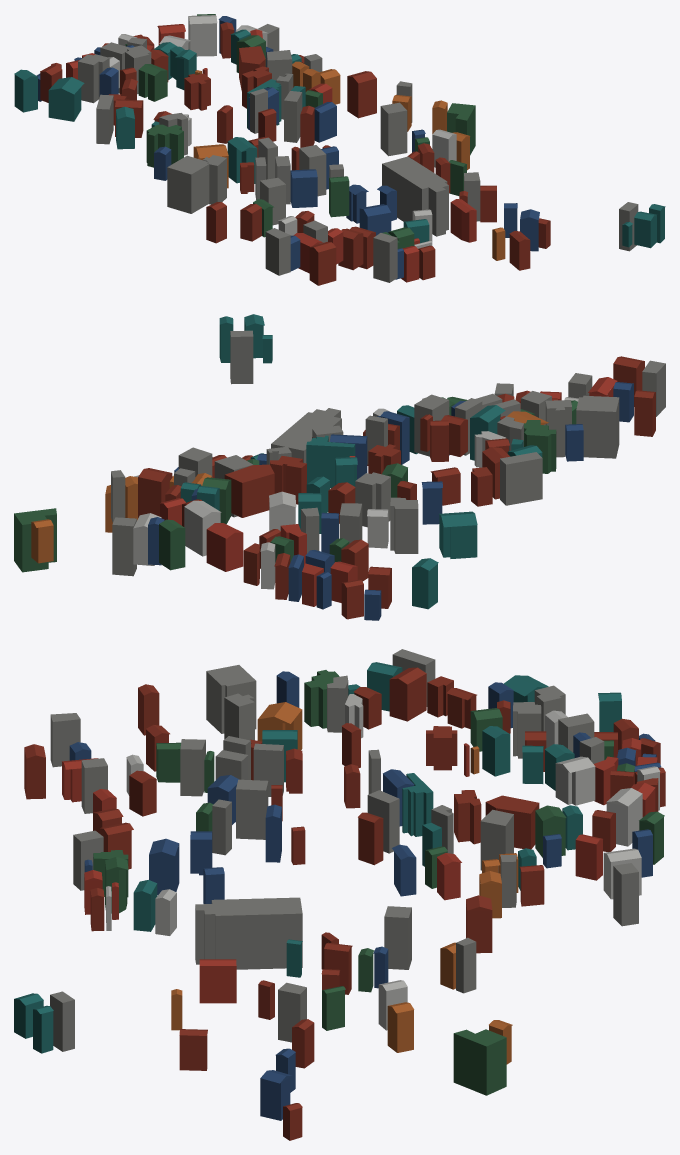
Rendered from near-17-109457-59494.feb04bde.glb.
3 views of the same model, one above another, from view 1: azimuth 30°, elevation 25°; view 2: azimuth 150°, elevation 25°; view 3: azimuth 270°, elevation 25° (orthographic). The views are drawn at different scales.
Size of the model in its own units: 277 by 127 by 303.
